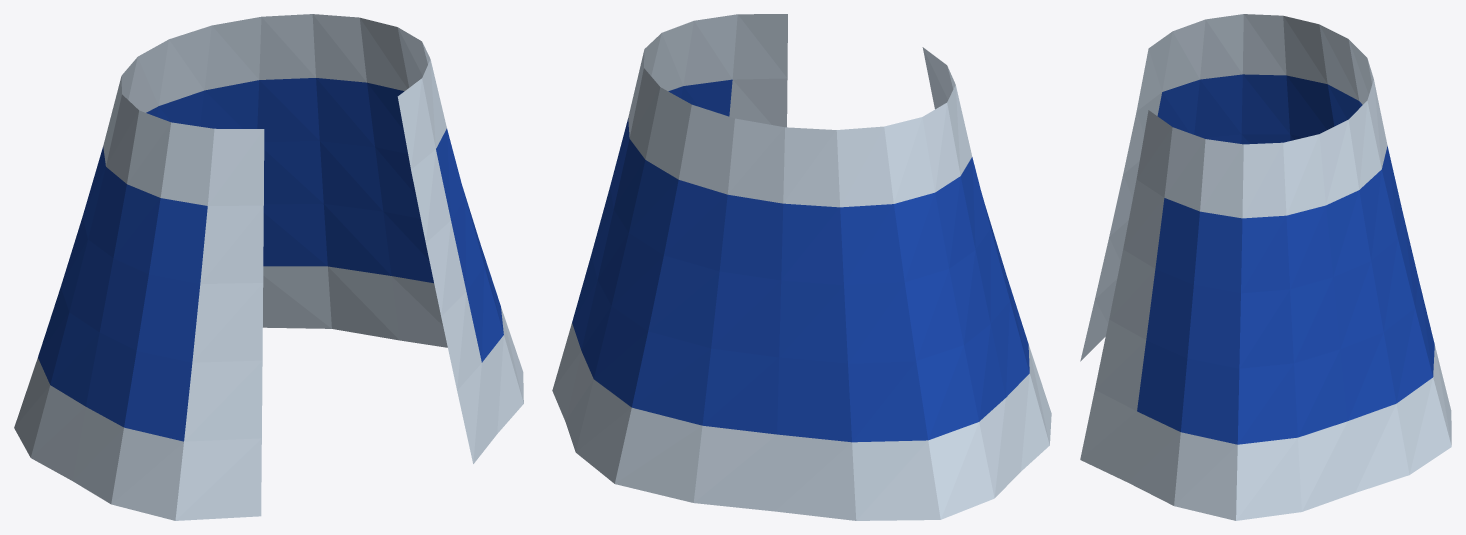
Rendered from Skin_StormWaist.obj.
3 views of the same model, side by side, from view 1: azimuth 30°, elevation 25°; view 2: azimuth 150°, elevation 25°; view 3: azimuth 270°, elevation 25° (orthographic). The views are drawn at different scales.
Visible parts, largest first — view 1: Skin_StormWaist_TrimMetal, Skin_StormWaist_BaseArmor; view 2: Skin_StormWaist_BaseArmor, Skin_StormWaist_TrimMetal; view 3: Skin_StormWaist_TrimMetal, Skin_StormWaist_BaseArmor.
Part boxes in pixels (bbox=[...]): Skin_StormWaist_TrimMetal: bbox=[14, 14, 523, 520]; Skin_StormWaist_BaseArmor: bbox=[38, 78, 503, 441]; Skin_StormWaist_BaseArmor: bbox=[572, 79, 1029, 442]; Skin_StormWaist_TrimMetal: bbox=[552, 14, 1051, 520]; Skin_StormWaist_TrimMetal: bbox=[1080, 14, 1451, 520]; Skin_StormWaist_BaseArmor: bbox=[1137, 74, 1434, 444].
Size of the model in its own units: 0.7092 by 0.52 by 0.5279.
